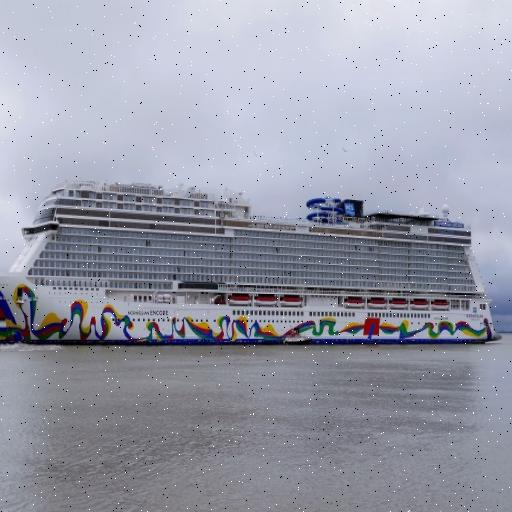cruises: (1, 170, 506, 363)
